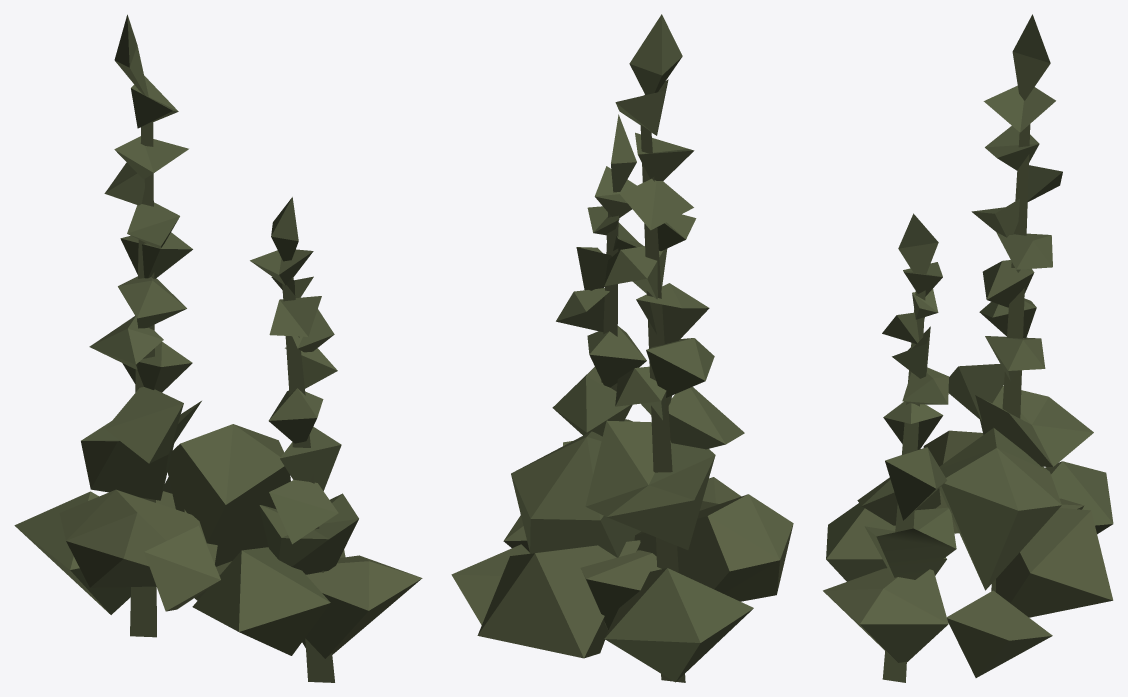
Rendered from kingdom_SM_Env_Flowers_20.gltf.
3 renders of one model, left to right at view 1: azimuth 30°, elevation 25°; view 2: azimuth 150°, elevation 25°; view 3: azimuth 270°, elevation 25°, orthographic. The views are drawn at different scales.
Parts seen in each view (by area): view 1: SM_Env_Flowers_20; view 2: SM_Env_Flowers_20; view 3: SM_Env_Flowers_20.
Part boxes in pixels (x1,y1,x2,y2): SM_Env_Flowers_20: (14,14,422,682); SM_Env_Flowers_20: (451,14,793,682); SM_Env_Flowers_20: (823,14,1113,682).
Bounding box in the file's own units: 0.5233 × 1.12 × 0.4851.
Materials: 1 (1 with a texture image).
